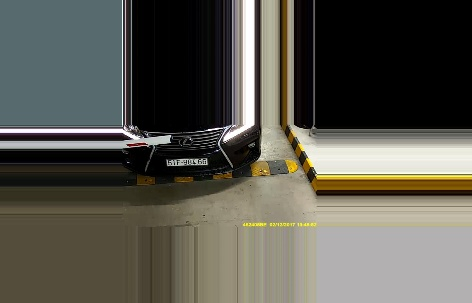plate: (165, 155, 210, 166)
